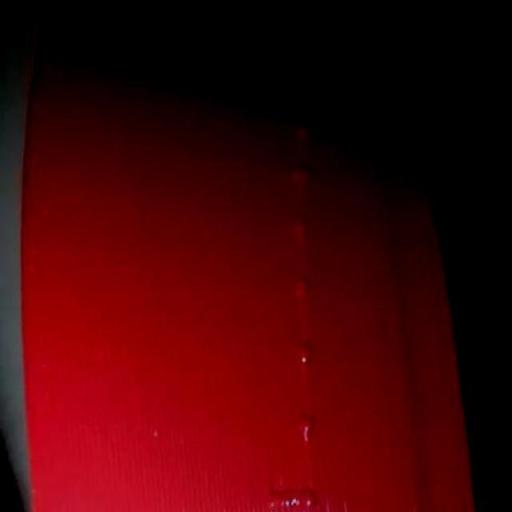blobs: (270, 483, 318, 512), (290, 414, 320, 444), (289, 272, 313, 304), (292, 340, 317, 368), (288, 162, 310, 190), (292, 121, 314, 145), (288, 212, 309, 237), (294, 88, 312, 107)
